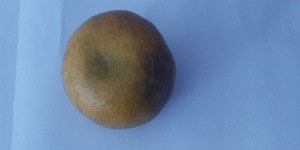BAD: (64, 11, 177, 132)
